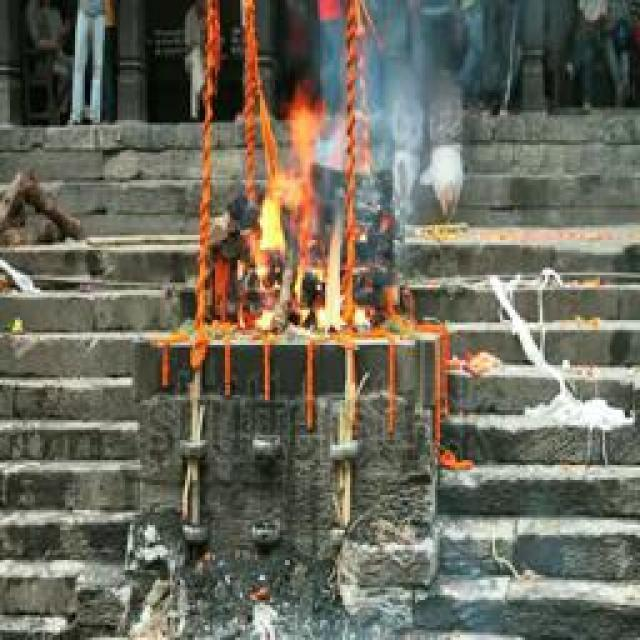Fire: (251, 82, 353, 342)
